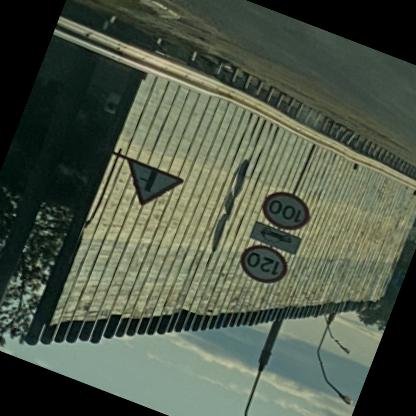speedlimit: (257, 186, 318, 238), (235, 241, 294, 292)
